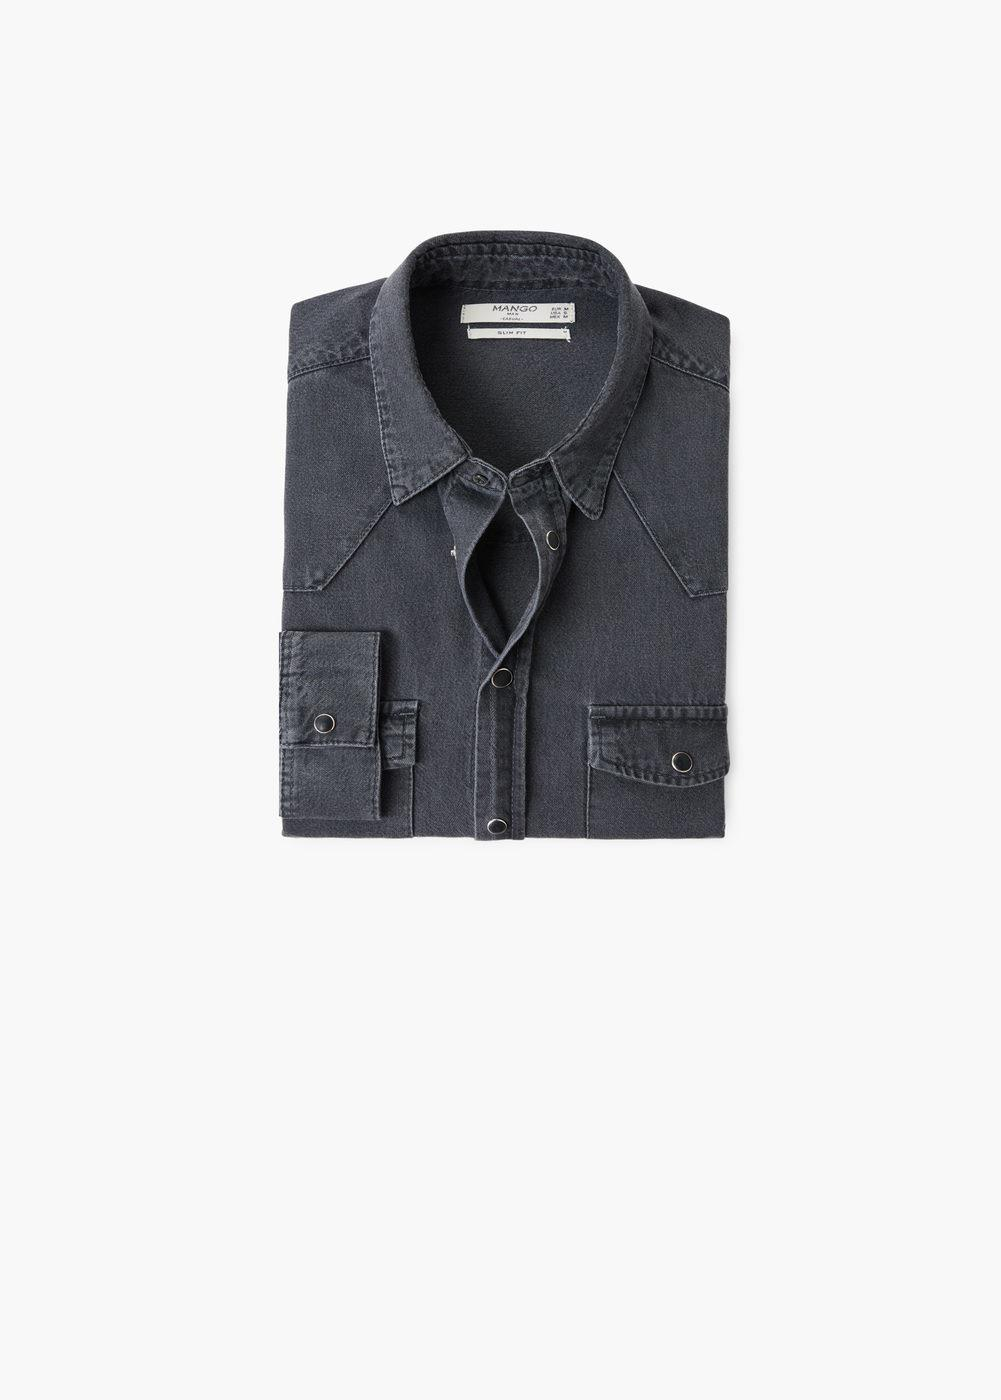teeshirt: (265, 227, 757, 865)
